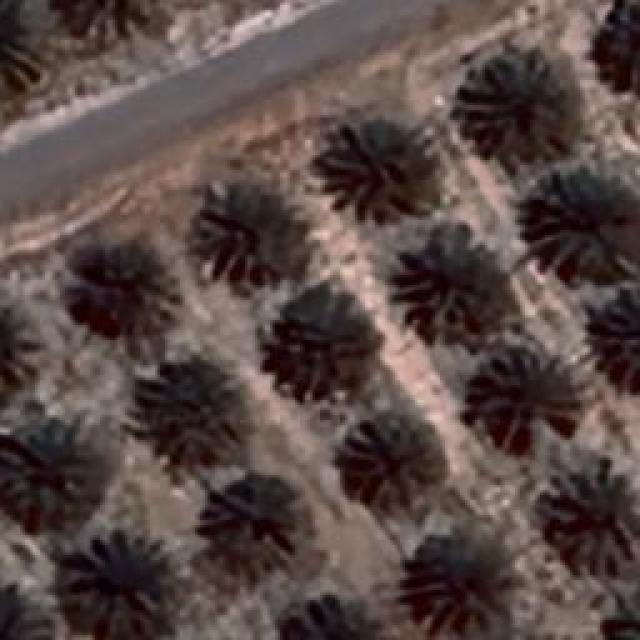PalmTree: (50, 97, 622, 616), (35, 48, 615, 97), (452, 50, 570, 170), (318, 120, 440, 230), (61, 238, 179, 348), (137, 358, 245, 468), (62, 525, 168, 633), (200, 182, 298, 286), (468, 350, 580, 440), (340, 410, 442, 508), (418, 535, 516, 633), (525, 175, 625, 270), (277, 300, 375, 395), (412, 232, 506, 330), (547, 462, 635, 558), (215, 479, 305, 569), (2, 430, 90, 512), (281, 582, 389, 640), (57, 0, 155, 45), (0, 0, 41, 106), (0, 295, 45, 383), (600, 288, 638, 390), (0, 580, 51, 640)
